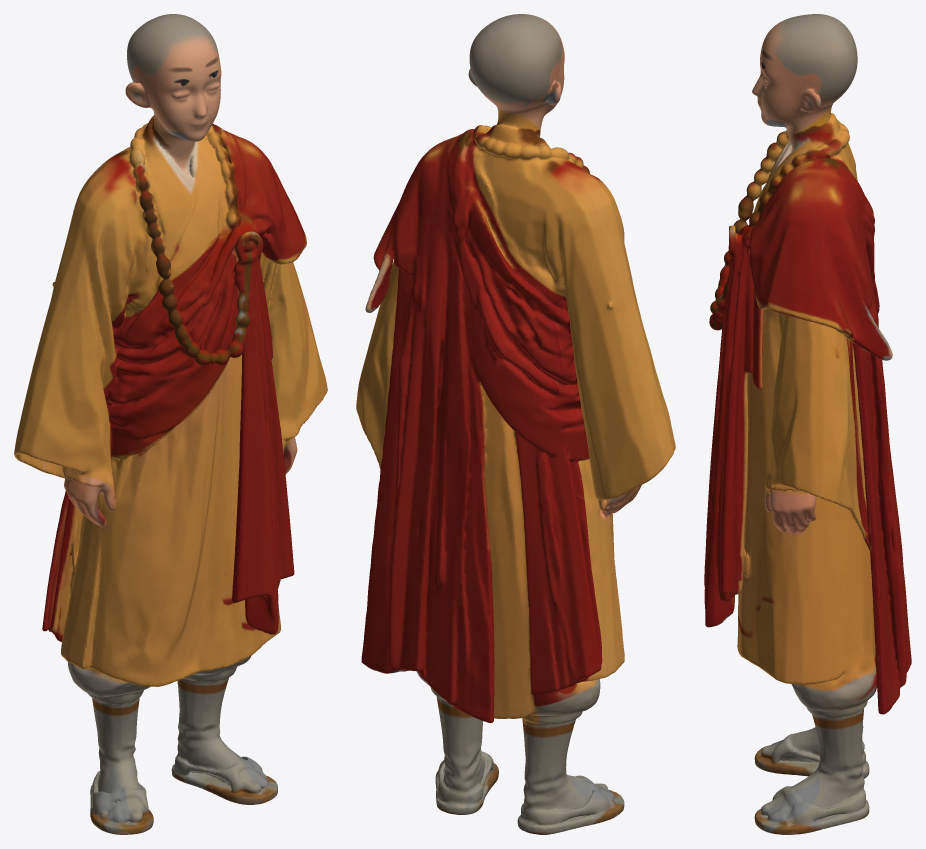
Rendered from monk_A_h25.glb.
3 renders of one model, left to right at view 1: azimuth 30°, elevation 25°; view 2: azimuth 150°, elevation 25°; view 3: azimuth 270°, elevation 25°, orthographic.
Parts seen in each view (by area): view 1: tripo_node_697e18eb-bc71-4fff-82c5-75af83b432f7; view 2: tripo_node_697e18eb-bc71-4fff-82c5-75af83b432f7; view 3: tripo_node_697e18eb-bc71-4fff-82c5-75af83b432f7.
Boxes of the visible parts, box(x1,y1,x2,y2) form: tripo_node_697e18eb-bc71-4fff-82c5-75af83b432f7: box(14, 14, 327, 834); tripo_node_697e18eb-bc71-4fff-82c5-75af83b432f7: box(356, 14, 675, 834); tripo_node_697e18eb-bc71-4fff-82c5-75af83b432f7: box(704, 14, 911, 834).
Bounding box in the file's own units: 0.4119 × 1 × 0.2425.
1 material, 1 textured.
